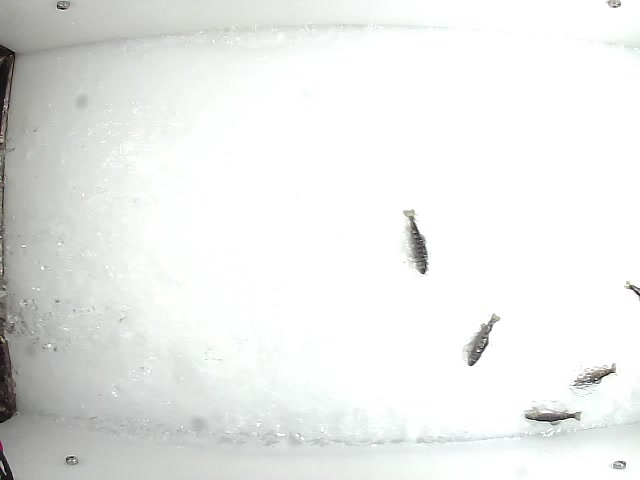fish: (464, 311, 502, 367), (401, 204, 430, 276), (567, 360, 618, 390), (520, 405, 583, 427)
